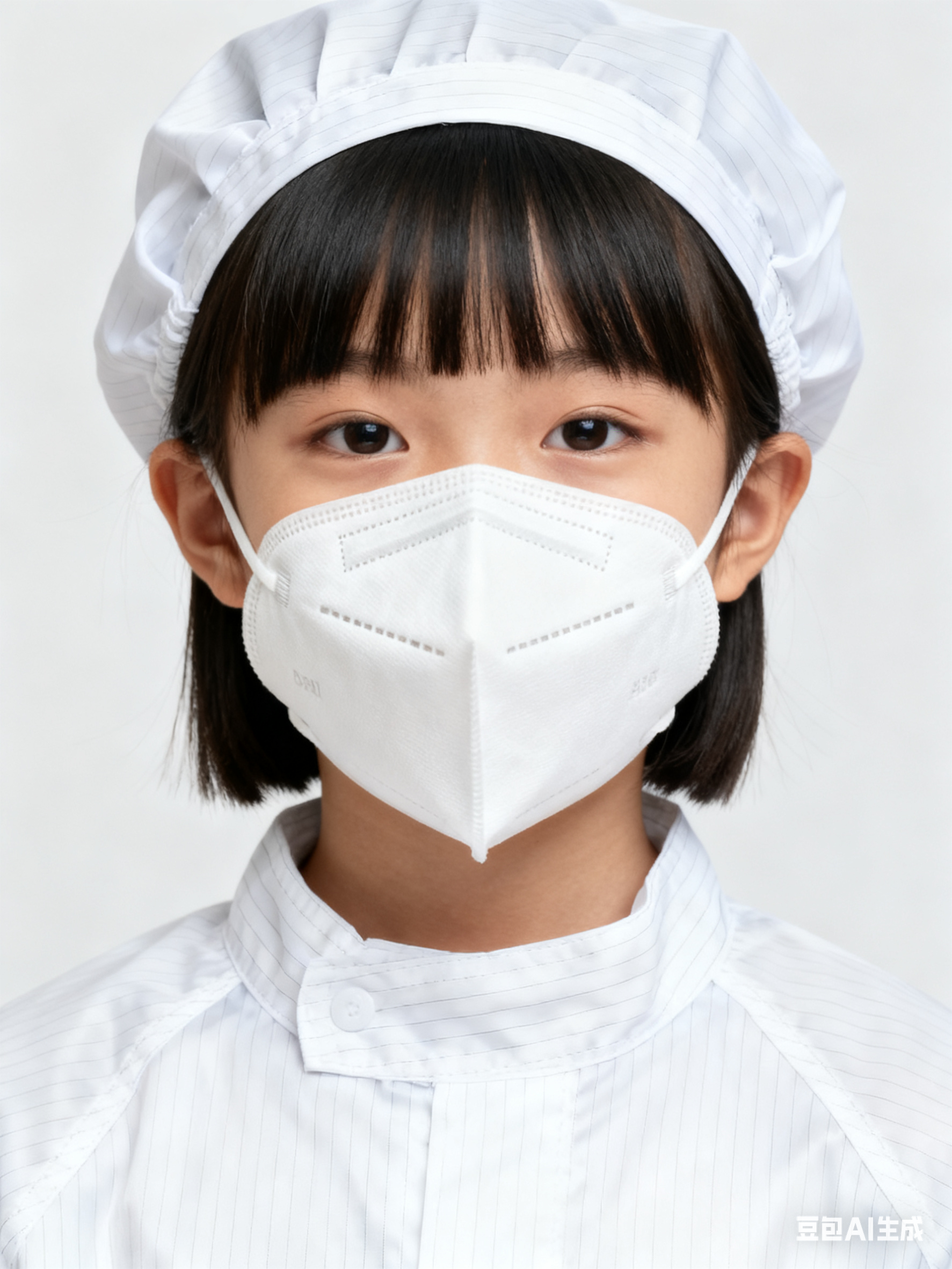MASK: (242, 466, 723, 861)
